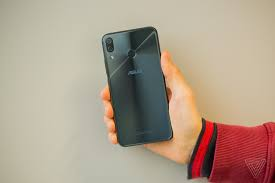asus: (94, 26, 176, 149)
